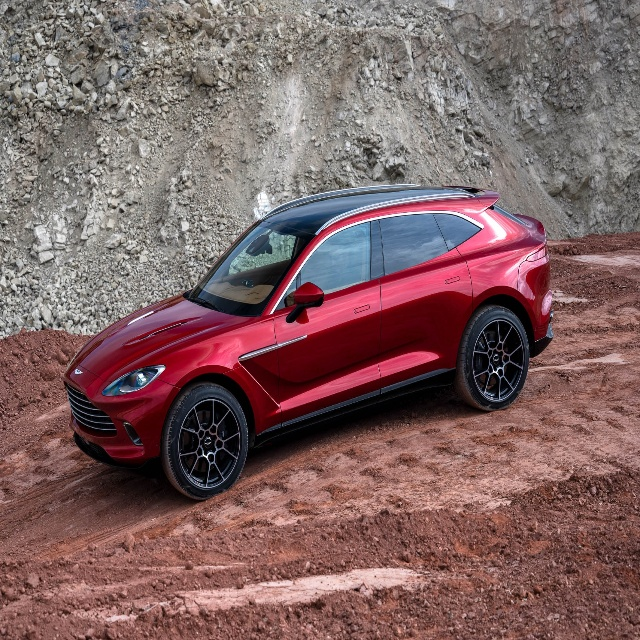Car: (63, 185, 553, 500)
